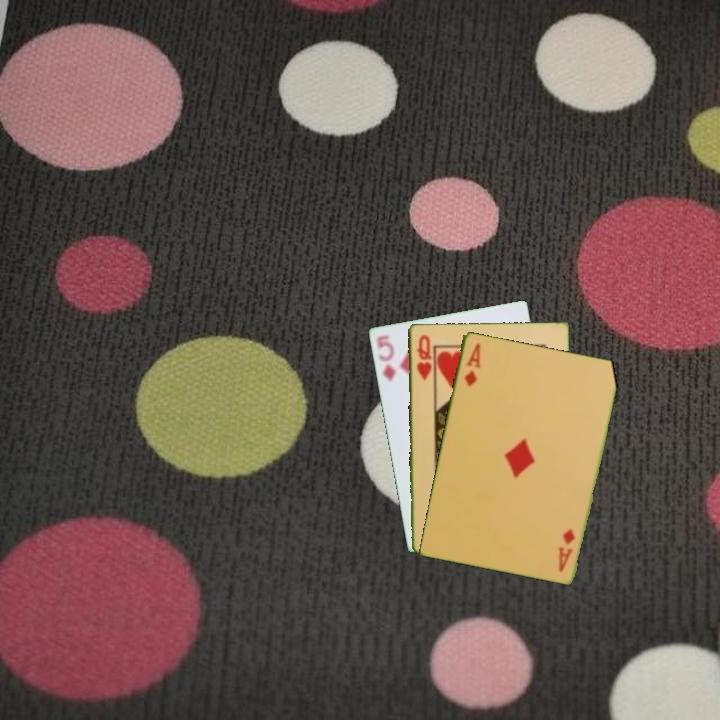5d: (372, 332, 398, 384)
Ad: (555, 524, 578, 575), (461, 339, 483, 389)
Qh: (413, 331, 434, 383)
